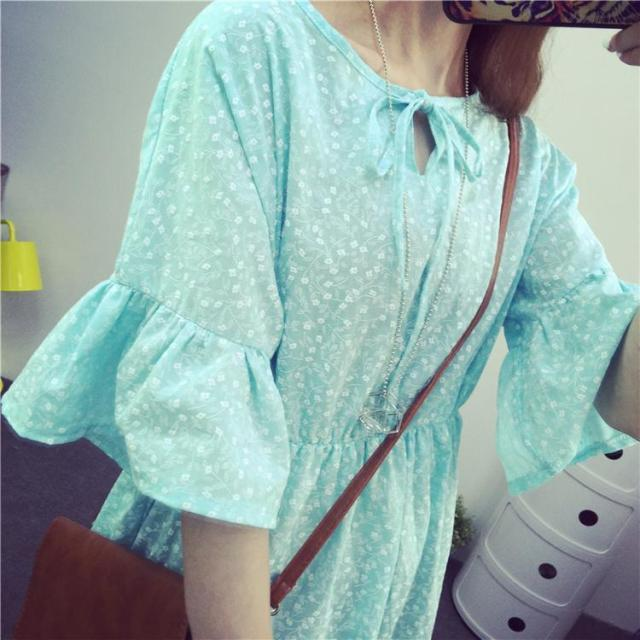short-sleeve-dress: (76, 1, 632, 636)
